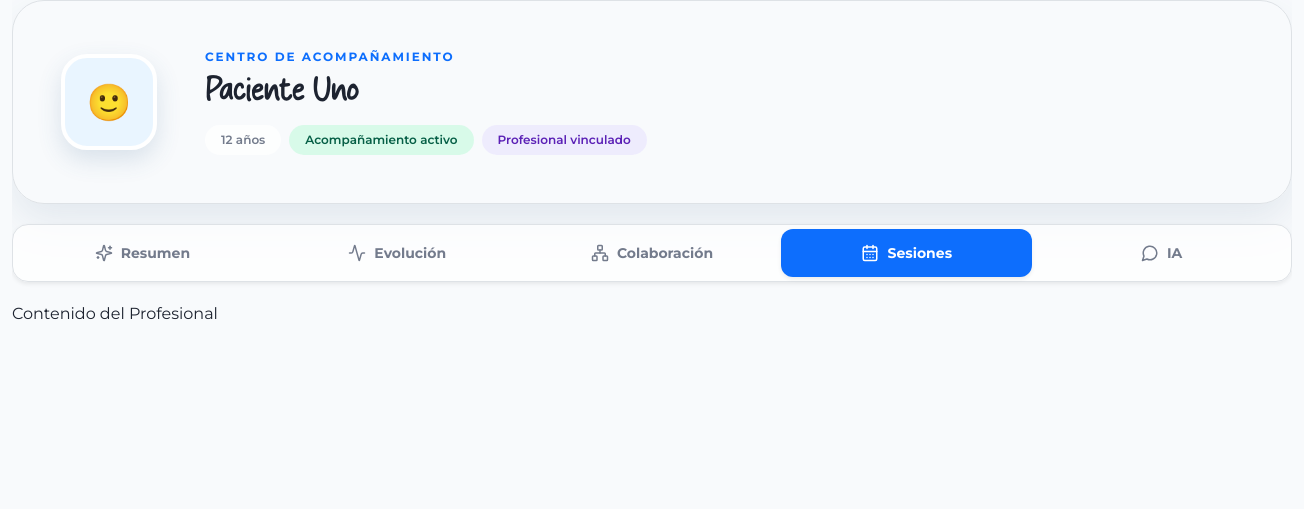
PertenecienteDetail con role="professional" › initialTab manda sobre la pestaña recordada y sessionsSlot reemplaza el cuerpo de Sesiones
This screenshot has width=1304, height=509.
Expected: the text "Contenido del Profesional" is shown, [12,304,218,323]
Click the button "Resumen" at coordinates (142, 253), box [17,229,268,277]
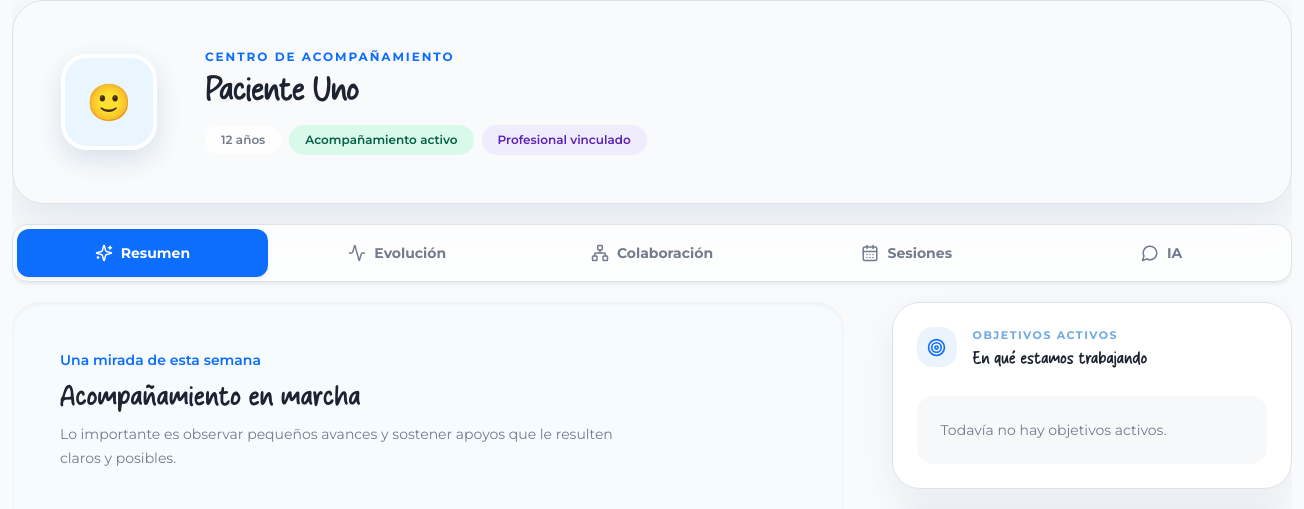
Result: the text "Una mirada de esta semana" is shown at [60,351,261,369]
Click the button "Sesiones" at coordinates (907, 253), box [781,229,1032,277]
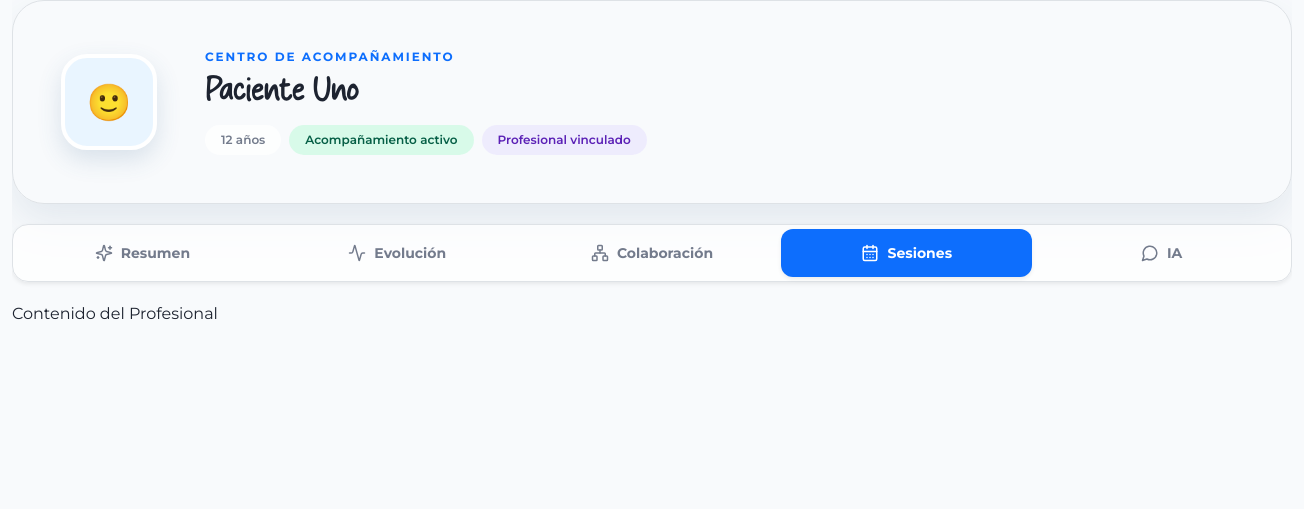
Result: the text "Contenido del Profesional" is shown at [12,304,218,323]
